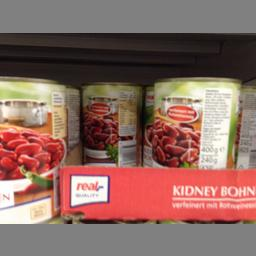beans: (0, 73, 70, 222), (151, 78, 242, 170), (78, 78, 144, 166)
